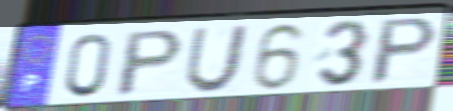0: (64, 32, 114, 100)
3: (309, 17, 375, 90)
6: (249, 20, 308, 93)
P: (366, 14, 442, 87), (113, 27, 188, 100)
U: (182, 23, 252, 95)
